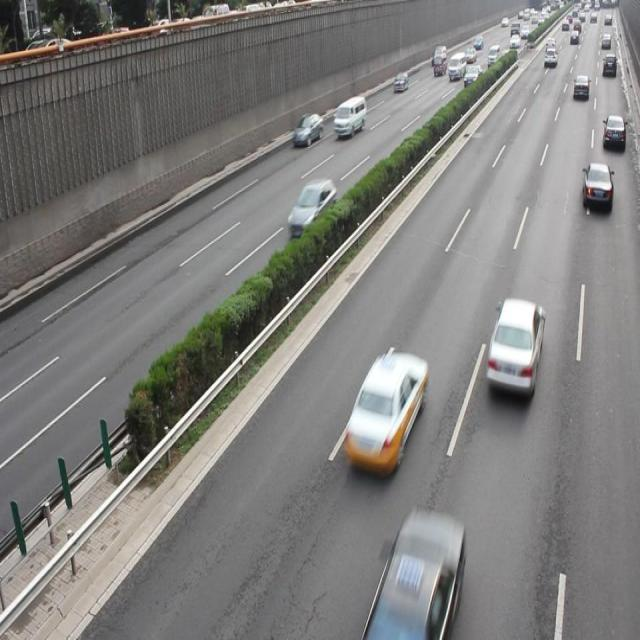car: (362, 506, 463, 640), (344, 348, 426, 471), (485, 294, 543, 398), (286, 178, 336, 240), (581, 162, 611, 212), (292, 112, 324, 150), (600, 112, 624, 153)
truck: (334, 95, 366, 137)
